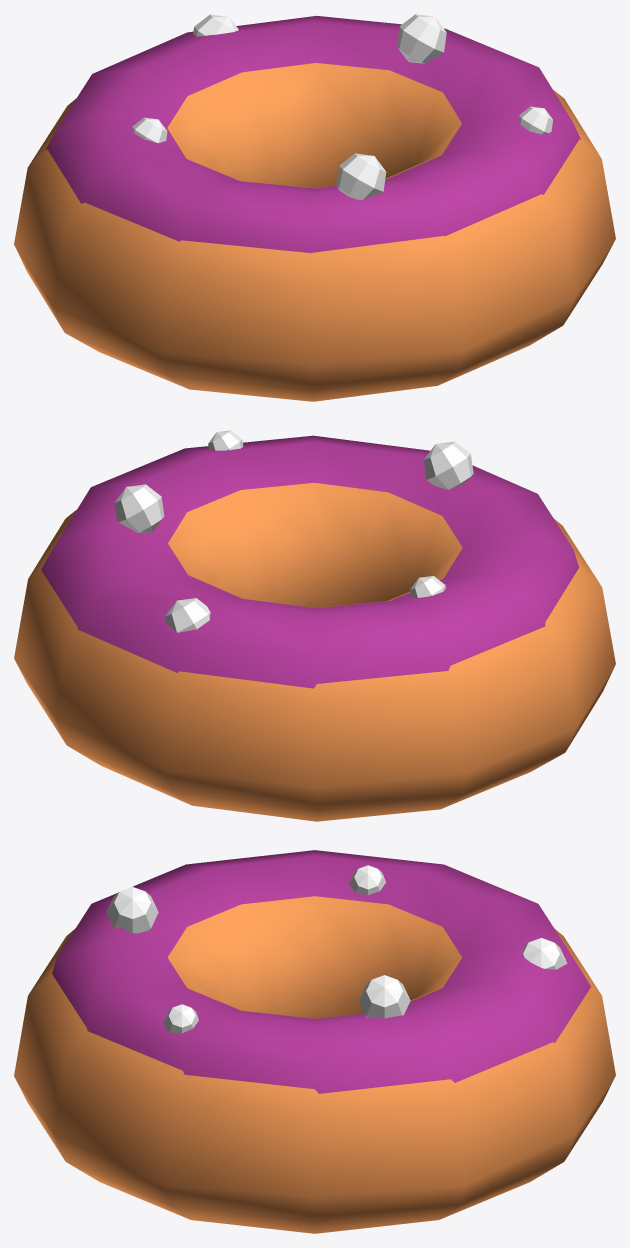
File: donutplate.fbx
The picture shows the model from 3 angles, top to bottom: view 1: azimuth 30°, elevation 25°; view 2: azimuth 150°, elevation 25°; view 3: azimuth 270°, elevation 25°; orthographic projection.
Visible parts, largest first — view 1: SM_Van_01_M_Van_01_0.001; view 2: SM_Van_01_M_Van_01_0.001; view 3: SM_Van_01_M_Van_01_0.001.
Boxes of the visible parts, box(x1,y1,x2,y2) form: SM_Van_01_M_Van_01_0.001: box(14, 14, 615, 401); SM_Van_01_M_Van_01_0.001: box(14, 430, 615, 821); SM_Van_01_M_Van_01_0.001: box(14, 850, 615, 1233).
Bounding box in the file's own units: 49.98 × 21.54 × 49.13.
